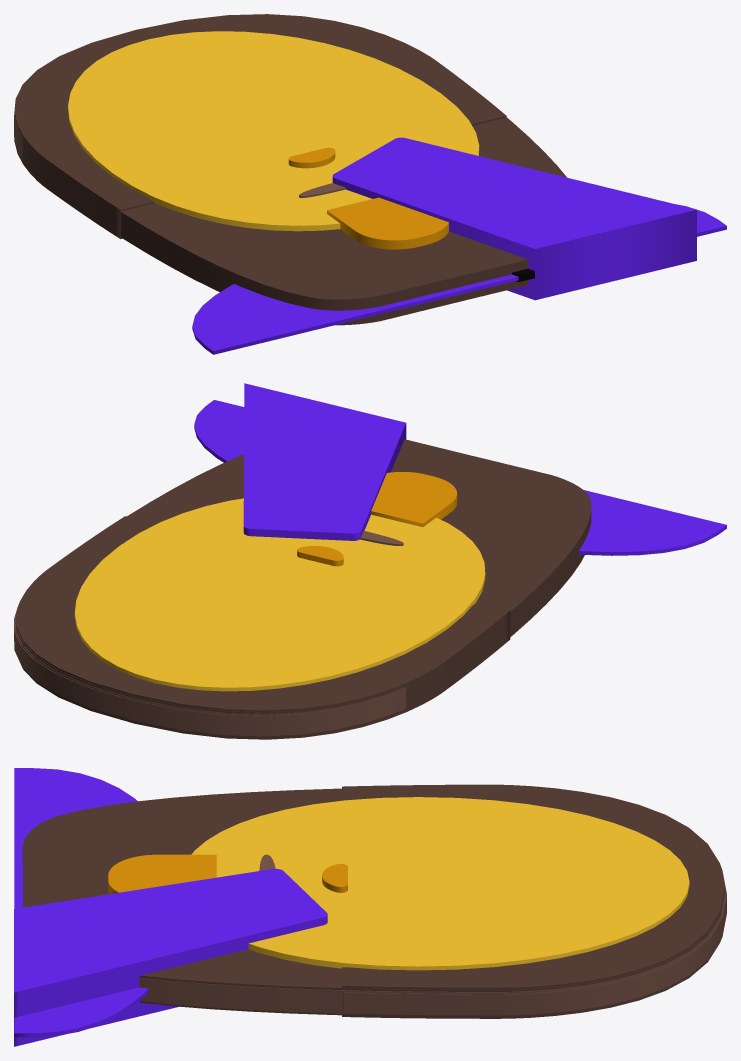
File: emoji_u1f926_200d_2640.glb
3 renders of one model, top to bottom at view 1: azimuth 30°, elevation 25°; view 2: azimuth 150°, elevation 25°; view 3: azimuth 270°, elevation 25°, orthographic. The views are drawn at different scales.
Parts seen in each view (by area): view 1: emoji_u1f926_200d_2640; view 2: emoji_u1f926_200d_2640; view 3: emoji_u1f926_200d_2640.
Part boxes in pixels (left/top/right/bottom): emoji_u1f926_200d_2640: left=14, top=14, right=726, bottom=354; emoji_u1f926_200d_2640: left=14, top=383, right=726, bottom=739; emoji_u1f926_200d_2640: left=14, top=768, right=726, bottom=1046.
Size of the model in its own units: 0.0294 by 0.0028 by 0.0333.
